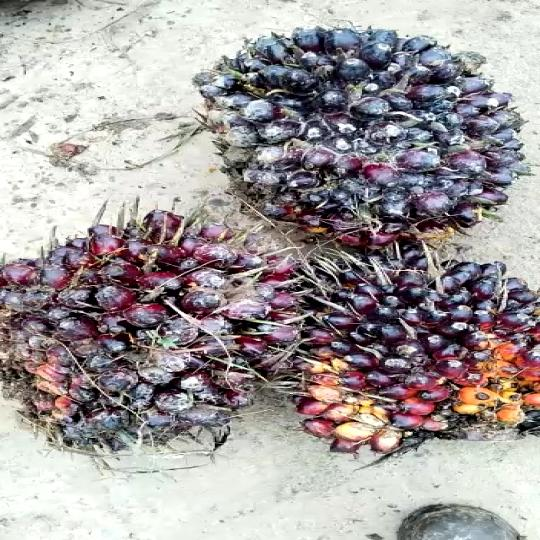kurang masak: (0, 208, 316, 475), (166, 19, 540, 243), (246, 233, 540, 451)
